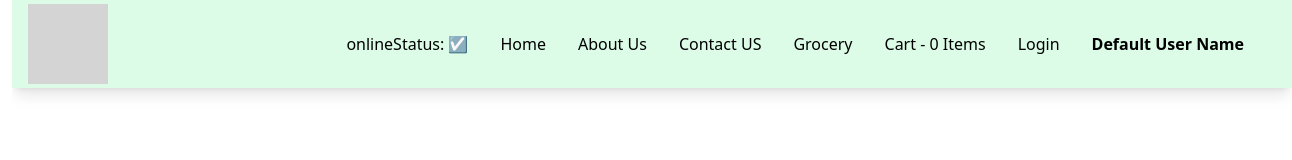
it: Should change the Login button to Logout on click and vice versa
# This will click on our loginButton and now our button will change to Logout
Click the button "Login".
click(1039, 44)  # box 1002,32 -> 1076,56
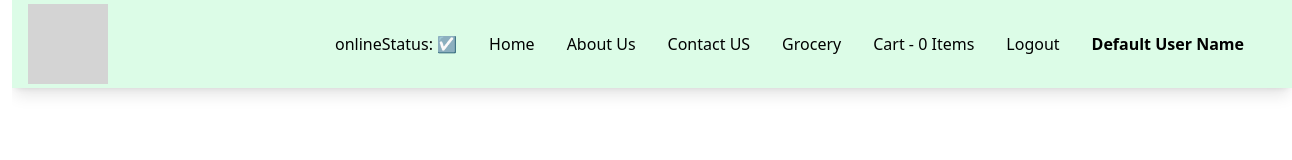
Check: the button "Logout" is shown
# This will click on our logoutButton and now our button will change to Login
Click the button "Logout".
click(1033, 44)  # box 990,32 -> 1076,56
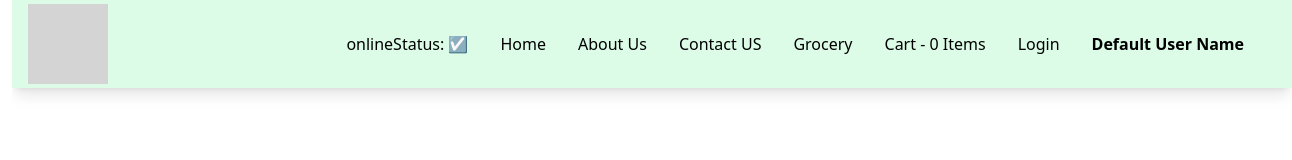
Check: the button "Login" is shown, box 1002,32 -> 1076,56
